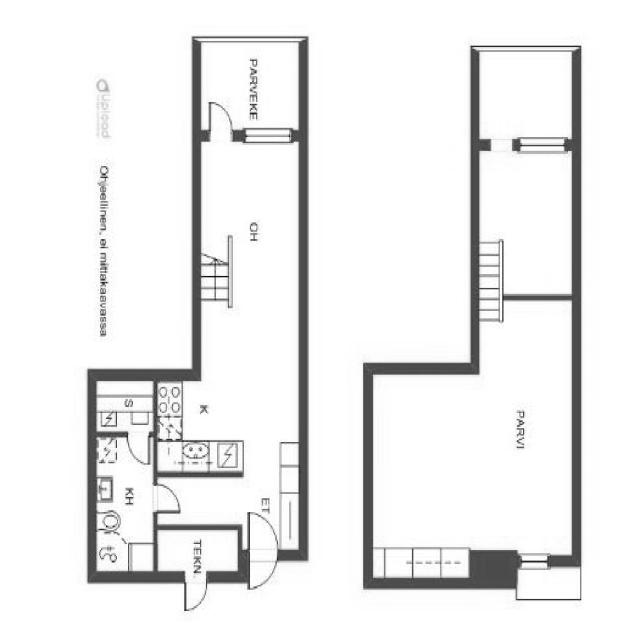door: (246, 508, 280, 590), (204, 97, 237, 146), (180, 567, 209, 615), (125, 430, 153, 467), (152, 483, 183, 515)
window: (238, 120, 300, 152), (510, 128, 571, 158), (511, 544, 556, 572)
zone: (367, 363, 581, 573), (194, 140, 300, 374), (474, 145, 578, 300), (156, 375, 301, 470), (474, 45, 579, 143), (92, 434, 156, 574), (154, 526, 242, 574), (93, 380, 155, 432)
